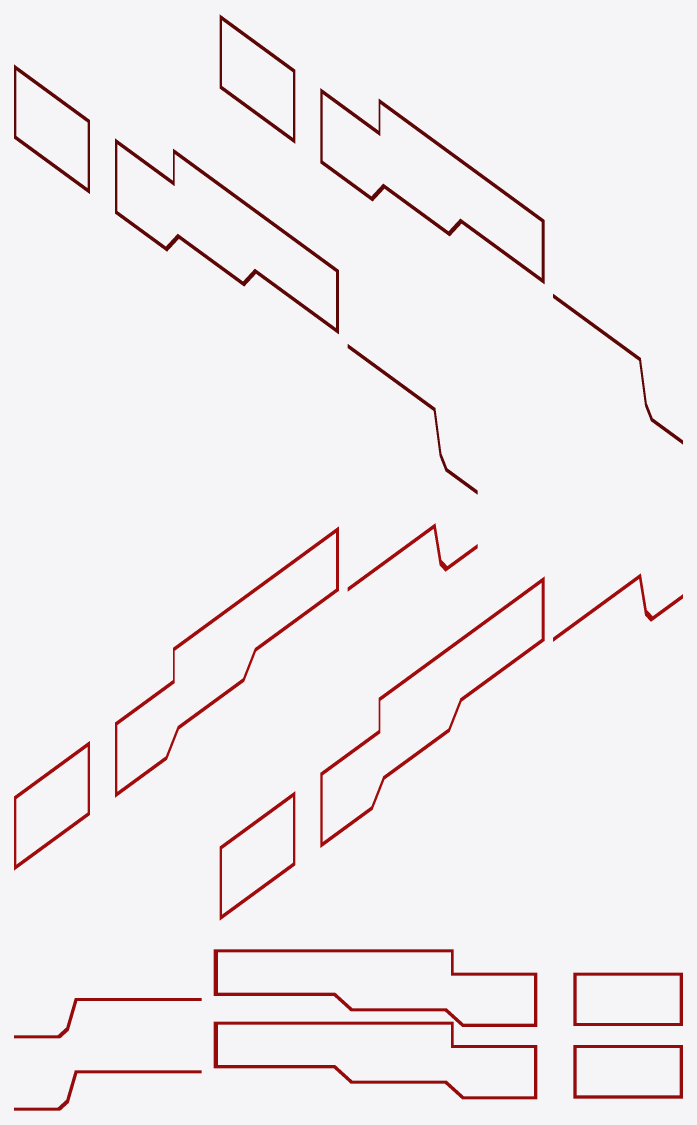
Rendered from br-4mt-tank-lining-out.dae.
3 views of the same model, one above another, from view 1: azimuth 30°, elevation 25°; view 2: azimuth 150°, elevation 25°; view 3: azimuth 270°, elevation 25° (orthographic). The views are drawn at different scales.
Parts seen in each view (by area): view 1: Plane_014, Plane_016, Plane_015, Plane_010, Plane_019, Plane_018; view 2: Plane_016, Plane_014, Plane_010, Plane_015, Plane_018, Plane_019; view 3: Plane_016, Plane_014, Plane_010, Plane_015, Plane_018, Plane_019.
Part boxes in pixels (x1,y1,x2,y2): Plane_014: (320,88,544,283); Plane_016: (115,138,338,333); Plane_015: (219,14,295,143); Plane_010: (14,64,89,193); Plane_019: (347,344,477,494); Plane_018: (553,294,682,444); Plane_016: (320,576,544,847); Plane_014: (115,526,338,797); Plane_010: (219,791,295,920); Plane_015: (14,741,89,870); Plane_018: (347,523,477,591); Plane_019: (553,573,682,641); Plane_016: (213,949,537,1026); Plane_014: (213,1021,537,1099); Plane_010: (573,972,682,1025); Plane_015: (573,1045,682,1098); Plane_018: (14,1070,201,1110); Plane_019: (14,998,201,1038).
Bounding box in the file's own units: 2 × 7.81 × 1.15.
